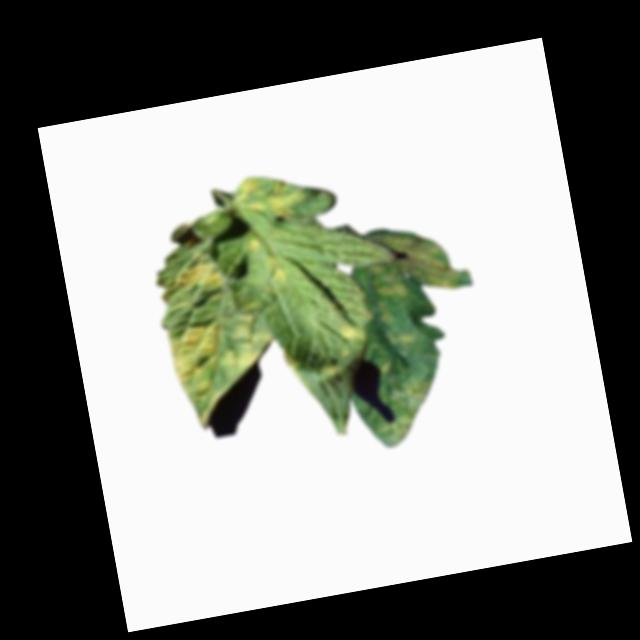Leaf_Mold: (161, 308, 285, 424), (362, 217, 460, 306), (232, 166, 310, 226), (374, 376, 442, 443), (171, 260, 226, 299), (262, 251, 290, 292), (239, 229, 266, 260), (330, 323, 367, 345), (314, 354, 343, 382), (384, 326, 416, 349), (375, 360, 391, 376)
